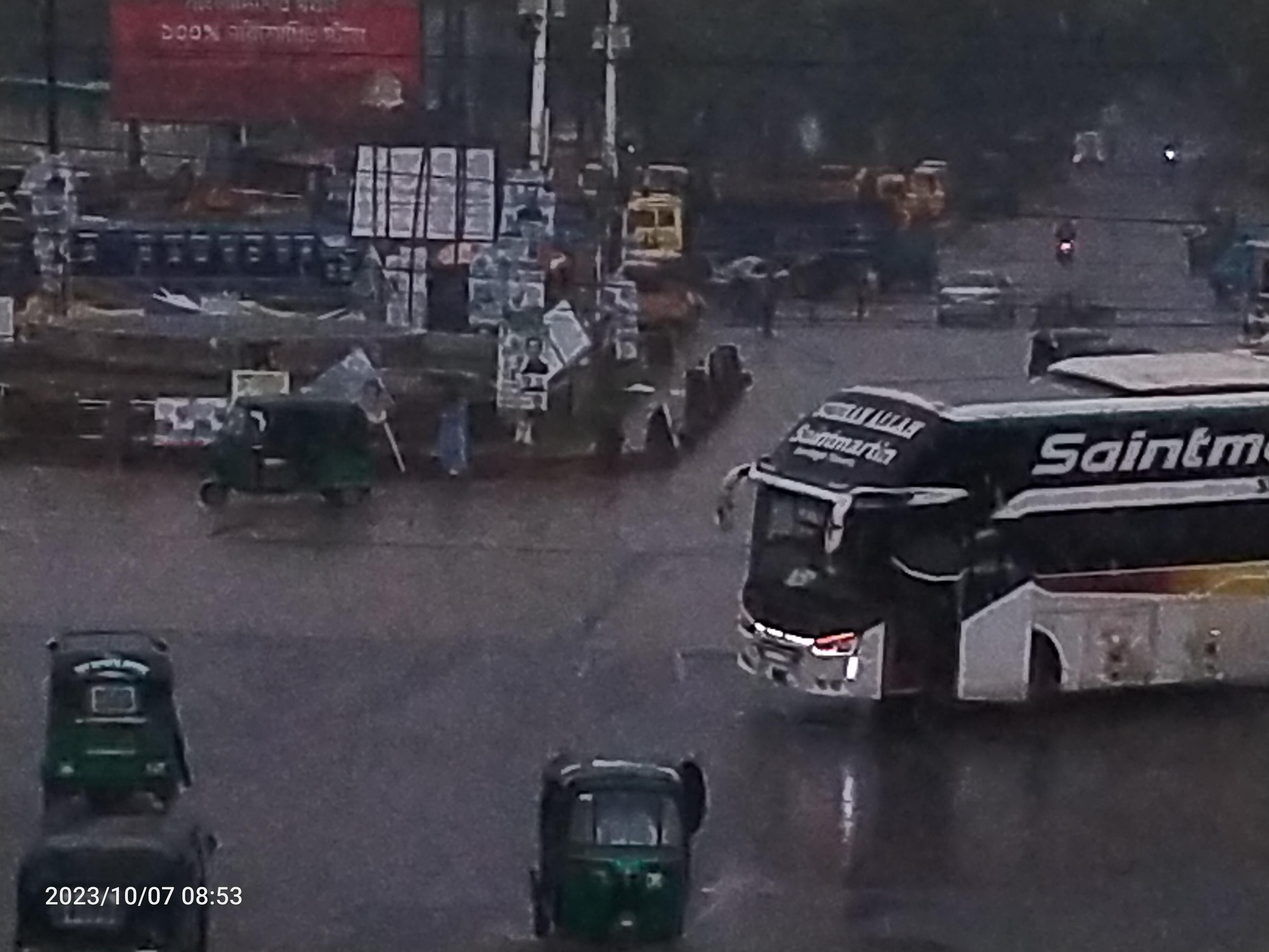Bike: (1045, 210, 1085, 270)
Bus: (695, 352, 1269, 727), (18, 187, 393, 366)
Car: (912, 245, 1026, 332)
Truck: (615, 152, 906, 296)
